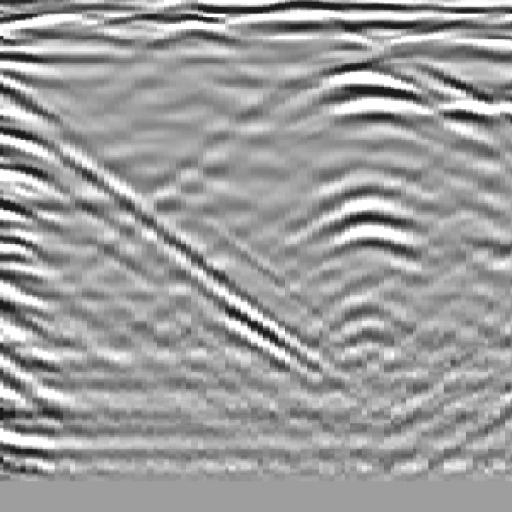non-metallic: (136, 50, 512, 385)
